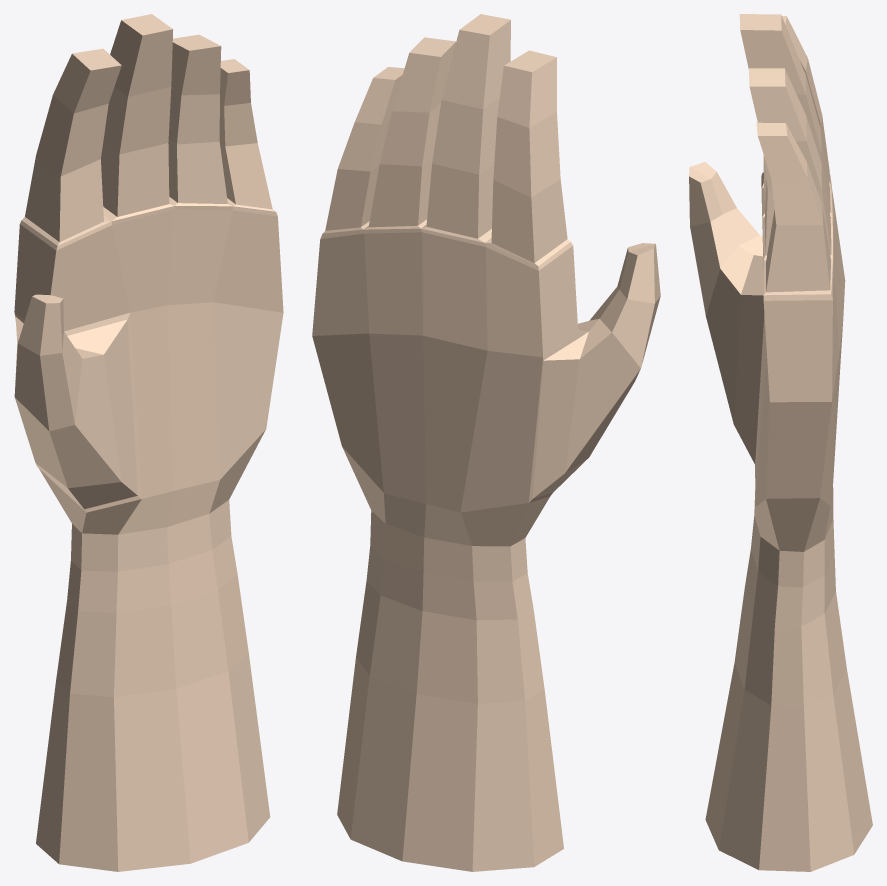
File: Player_L____.fbx
3 views of the same model, side by side, from view 1: azimuth 30°, elevation 25°; view 2: azimuth 150°, elevation 25°; view 3: azimuth 270°, elevation 25° (orthographic). The views are drawn at different scales.
Parts seen in each view (by area): view 1: Player_L; view 2: Player_L; view 3: Player_L.
Part boxes in pixels (box(x1,y1,x2,y2)): Player_L: box(14, 14, 283, 871); Player_L: box(312, 14, 660, 871); Player_L: box(689, 14, 872, 871).
Bounding box in the file's own units: 0.3413 × 0.9165 × 0.193.
